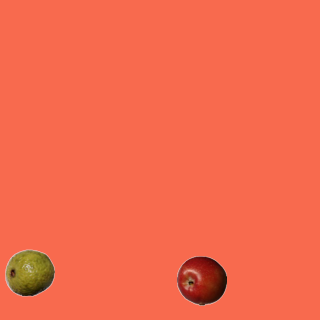Apple Braeburn: (176, 255, 226, 305)
Guava: (4, 247, 54, 297)
